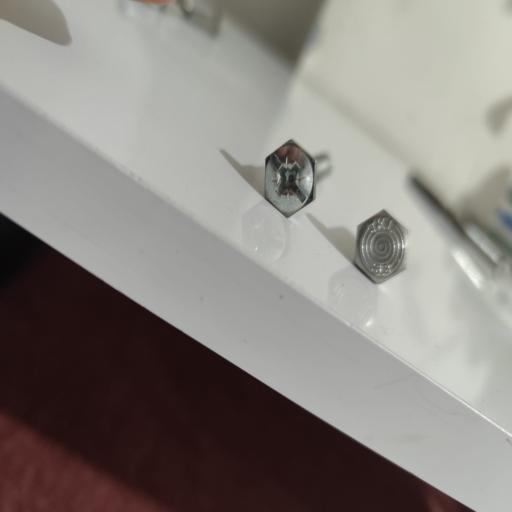Hex-Allen: (351, 208, 411, 284)
Pozidriv: (262, 137, 318, 217)
